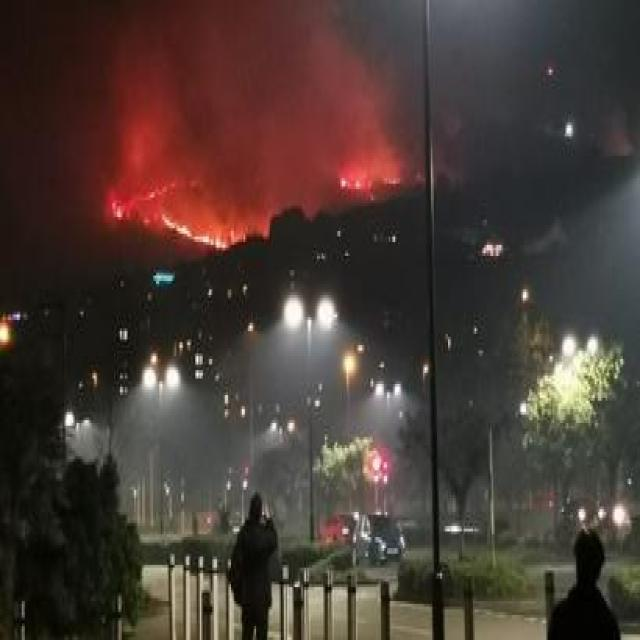Smoke: (71, 0, 412, 161)
